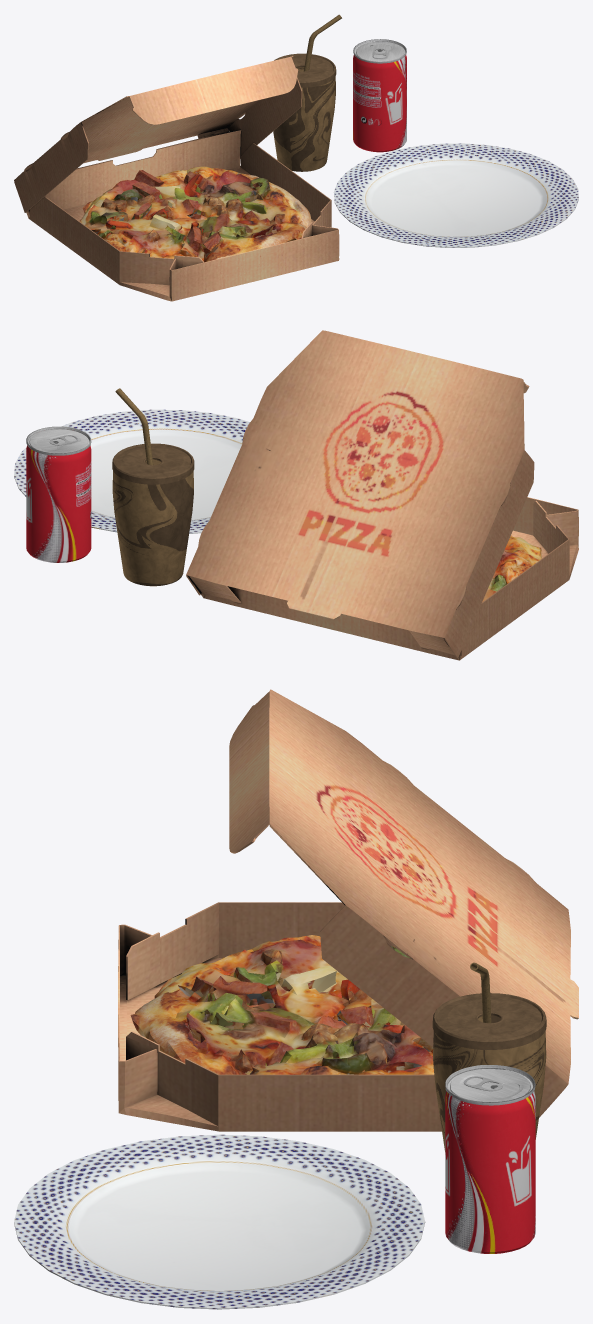
3 renders of one model, top to bottom at view 1: azimuth 30°, elevation 25°; view 2: azimuth 150°, elevation 25°; view 3: azimuth 270°, elevation 25°, orthographic. The views are drawn at different scales.
Parts seen in each view (by area): view 1: Pizza Box_4, Plate_1, Pizza_2, Can_0, Cup_3; view 2: Pizza Box_4, Cup_3, Plate_1, Can_0, Pizza_2; view 3: Pizza Box_4, Plate_1, Pizza_2, Can_0, Cup_3.
Boxes of the visible parts, left/top/right/bottom form: Pizza Box_4: left=14, top=56, right=339, bottom=301; Plate_1: left=334, top=143, right=578, bottom=247; Pizza_2: left=79, top=166, right=311, bottom=262; Can_0: left=353, top=39, right=406, bottom=152; Cup_3: left=273, top=14, right=341, bottom=171; Pizza Box_4: left=186, top=330, right=578, bottom=660; Cup_3: left=112, top=388, right=194, bottom=586; Plate_1: left=14, top=409, right=249, bottom=533; Can_0: left=26, top=426, right=91, bottom=562; Pizza_2: left=482, top=534, right=541, bottom=601; Pizza Box_4: left=118, top=689, right=578, bottom=1131; Plate_1: left=14, top=1134, right=425, bottom=1309; Pizza_2: left=130, top=935, right=434, bottom=1074; Can_0: left=445, top=1065, right=535, bottom=1253; Cup_3: left=432, top=962, right=546, bottom=1151.
Bounding box in the file's own units: 2.28 × 0.8443 × 1.5.
Materials: 5 (5 with a texture image).
